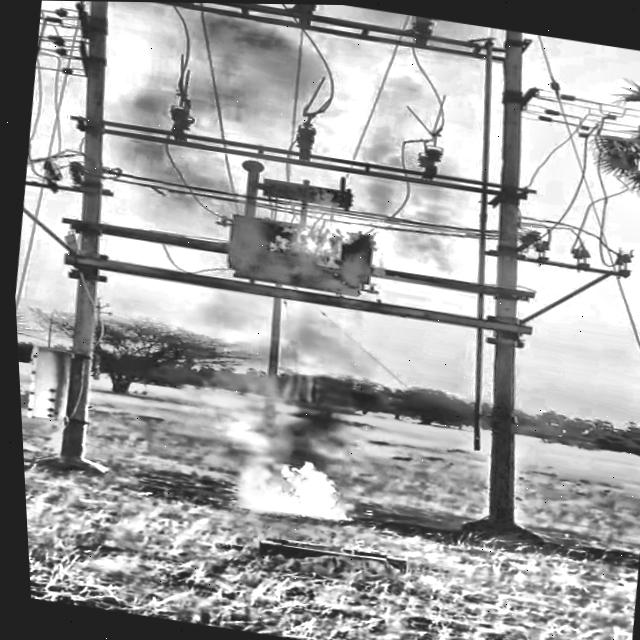Fire: (228, 172, 415, 295), (220, 439, 361, 534)
